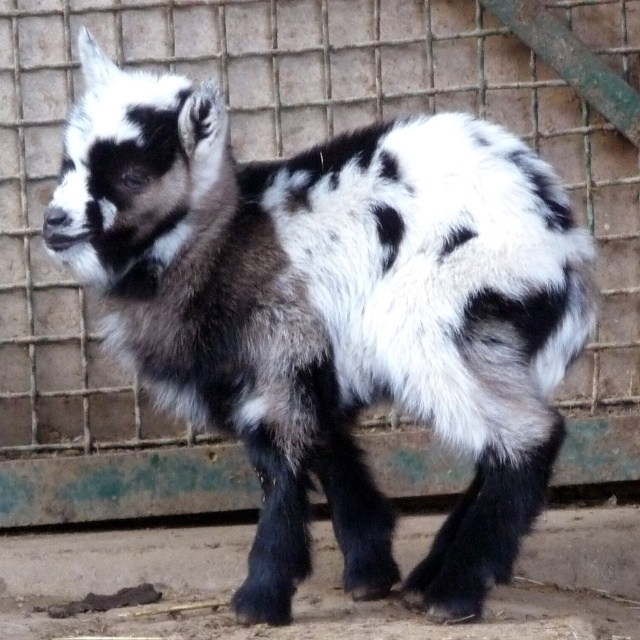Goat: (23, 56, 625, 640)
